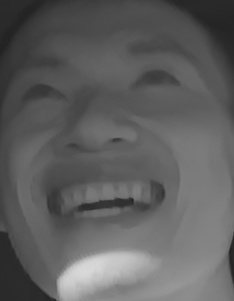eye: (123, 66, 188, 99), (11, 77, 72, 109)
mouth: (35, 158, 167, 231)
